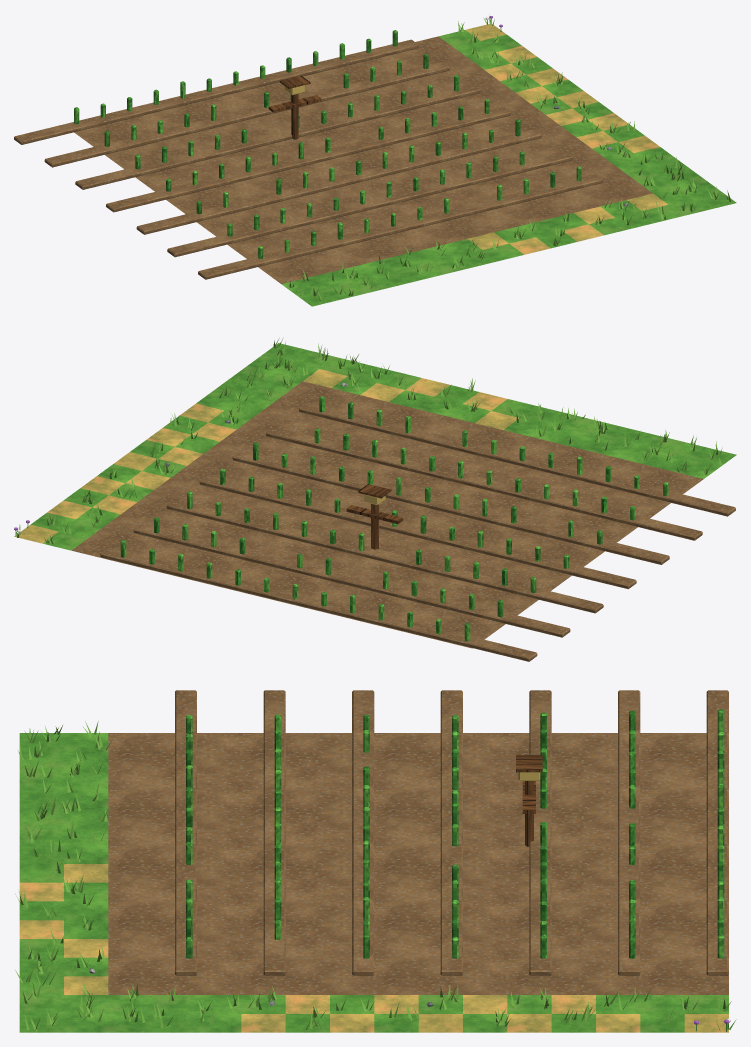
File: chunk_7_13.glb
3 views of the same model, one above another, from view 1: azimuth 30°, elevation 25°; view 2: azimuth 150°, elevation 25°; view 3: azimuth 270°, elevation 25° (orthographic). The views are drawn at different scales.
Visible parts, largest first — view 1: chunk_7_13; view 2: chunk_7_13; view 3: chunk_7_13.
Boxes of the visible parts, x1,y1,x2,y2 form: chunk_7_13: (14,14,736,306); chunk_7_13: (14,338,736,661); chunk_7_13: (15,690,736,1032).
Bounding box in the file's own units: 18.02 × 2.11 × 16.31.
Materials: 13 (9 with a texture image).
